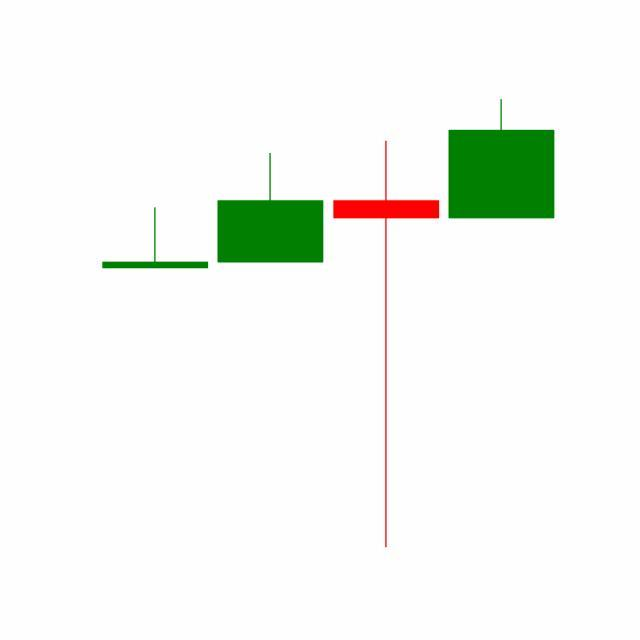Spinning Top: (329, 137, 445, 553)
